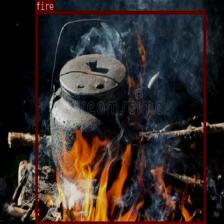fire: (35, 10, 205, 224)
